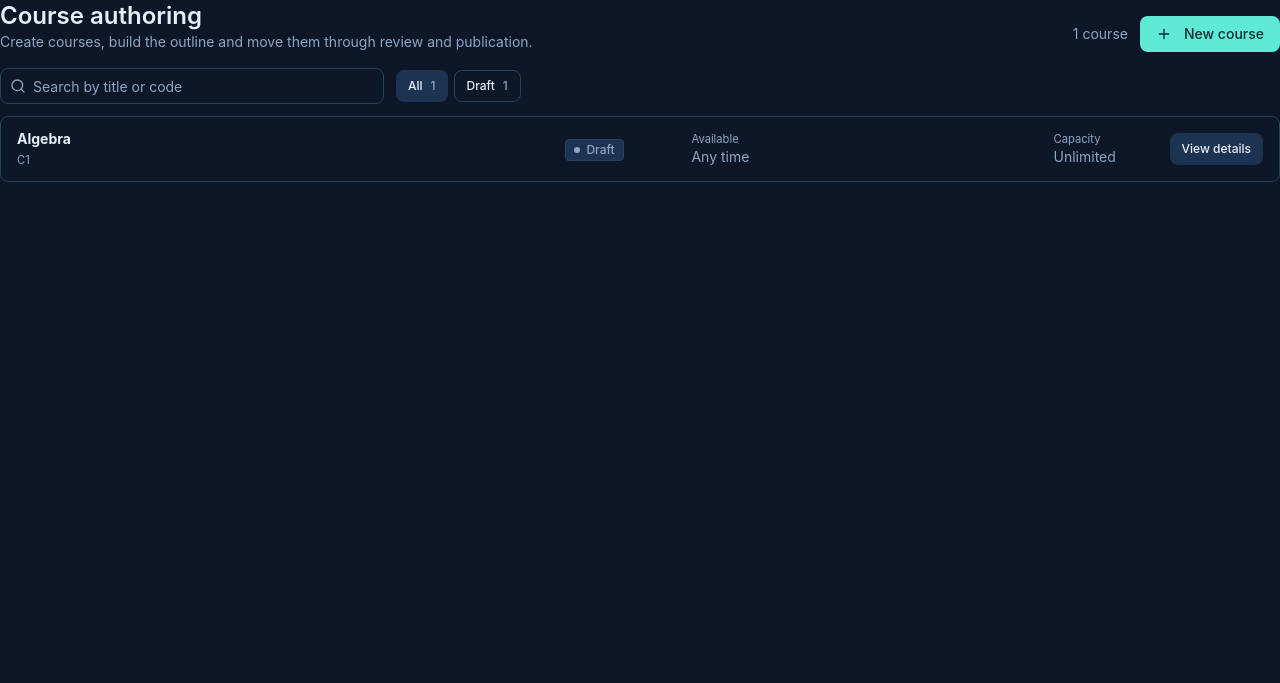
it: course outline editing › cannot move the first item up or the last item down
Click the button with aria-label "View details for Algebra" at [1216, 149], box [1170,133,1263,165]
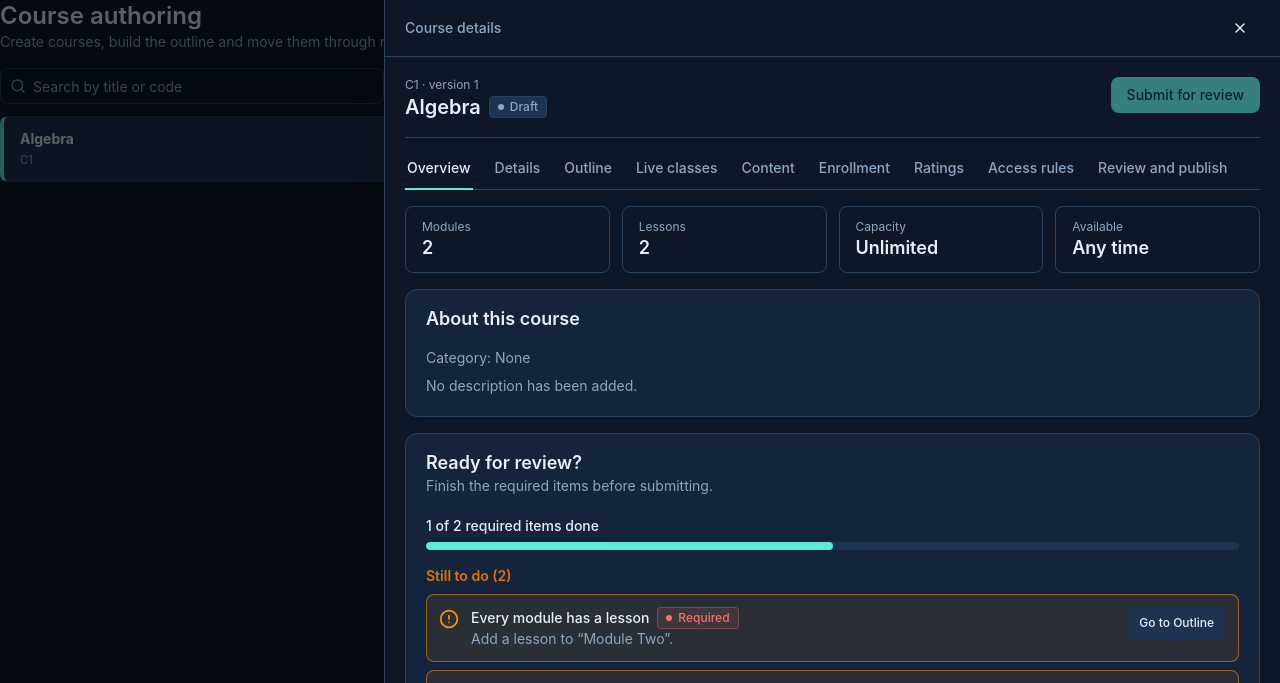
Click the tab "Outline" at [588, 172], box [562,154,614,190]
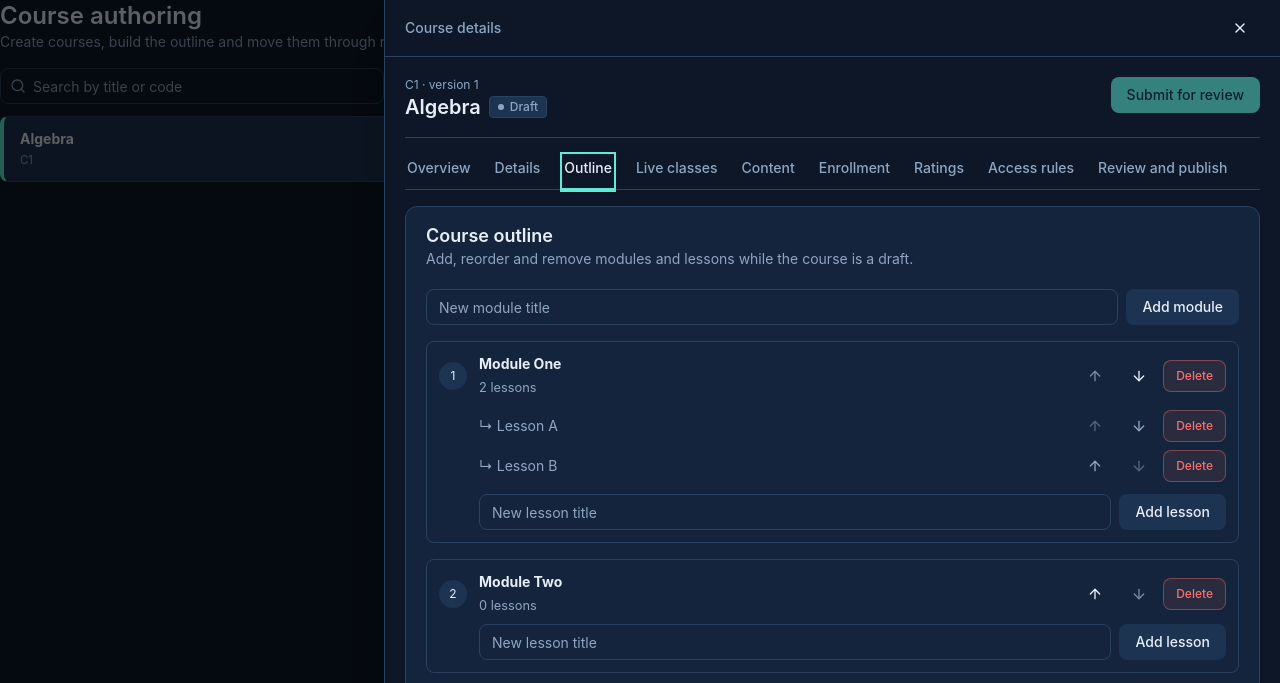
expect the text "Module One" is shown: met, box [479,354,562,374]
expect the button named "Move module Module One up" is disabled: met, box [1075,360,1115,392]
expect the button named "Move module Module Two down" is disabled: met, box [1119,578,1159,610]
